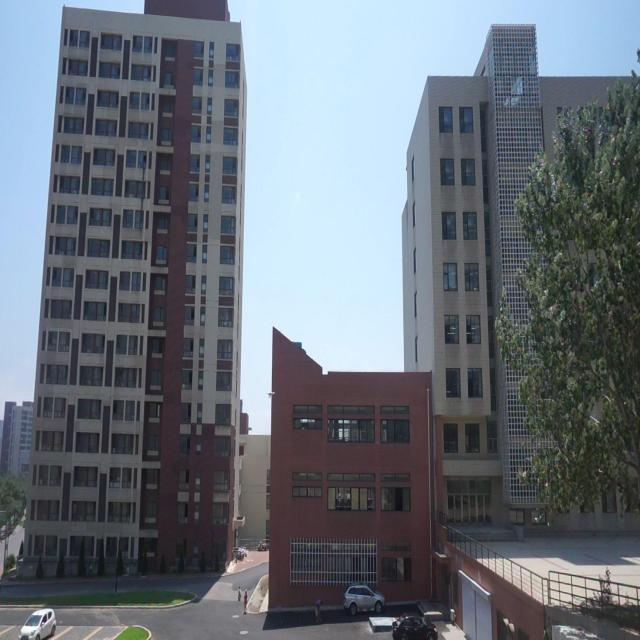UAV: (266, 391, 275, 398)
